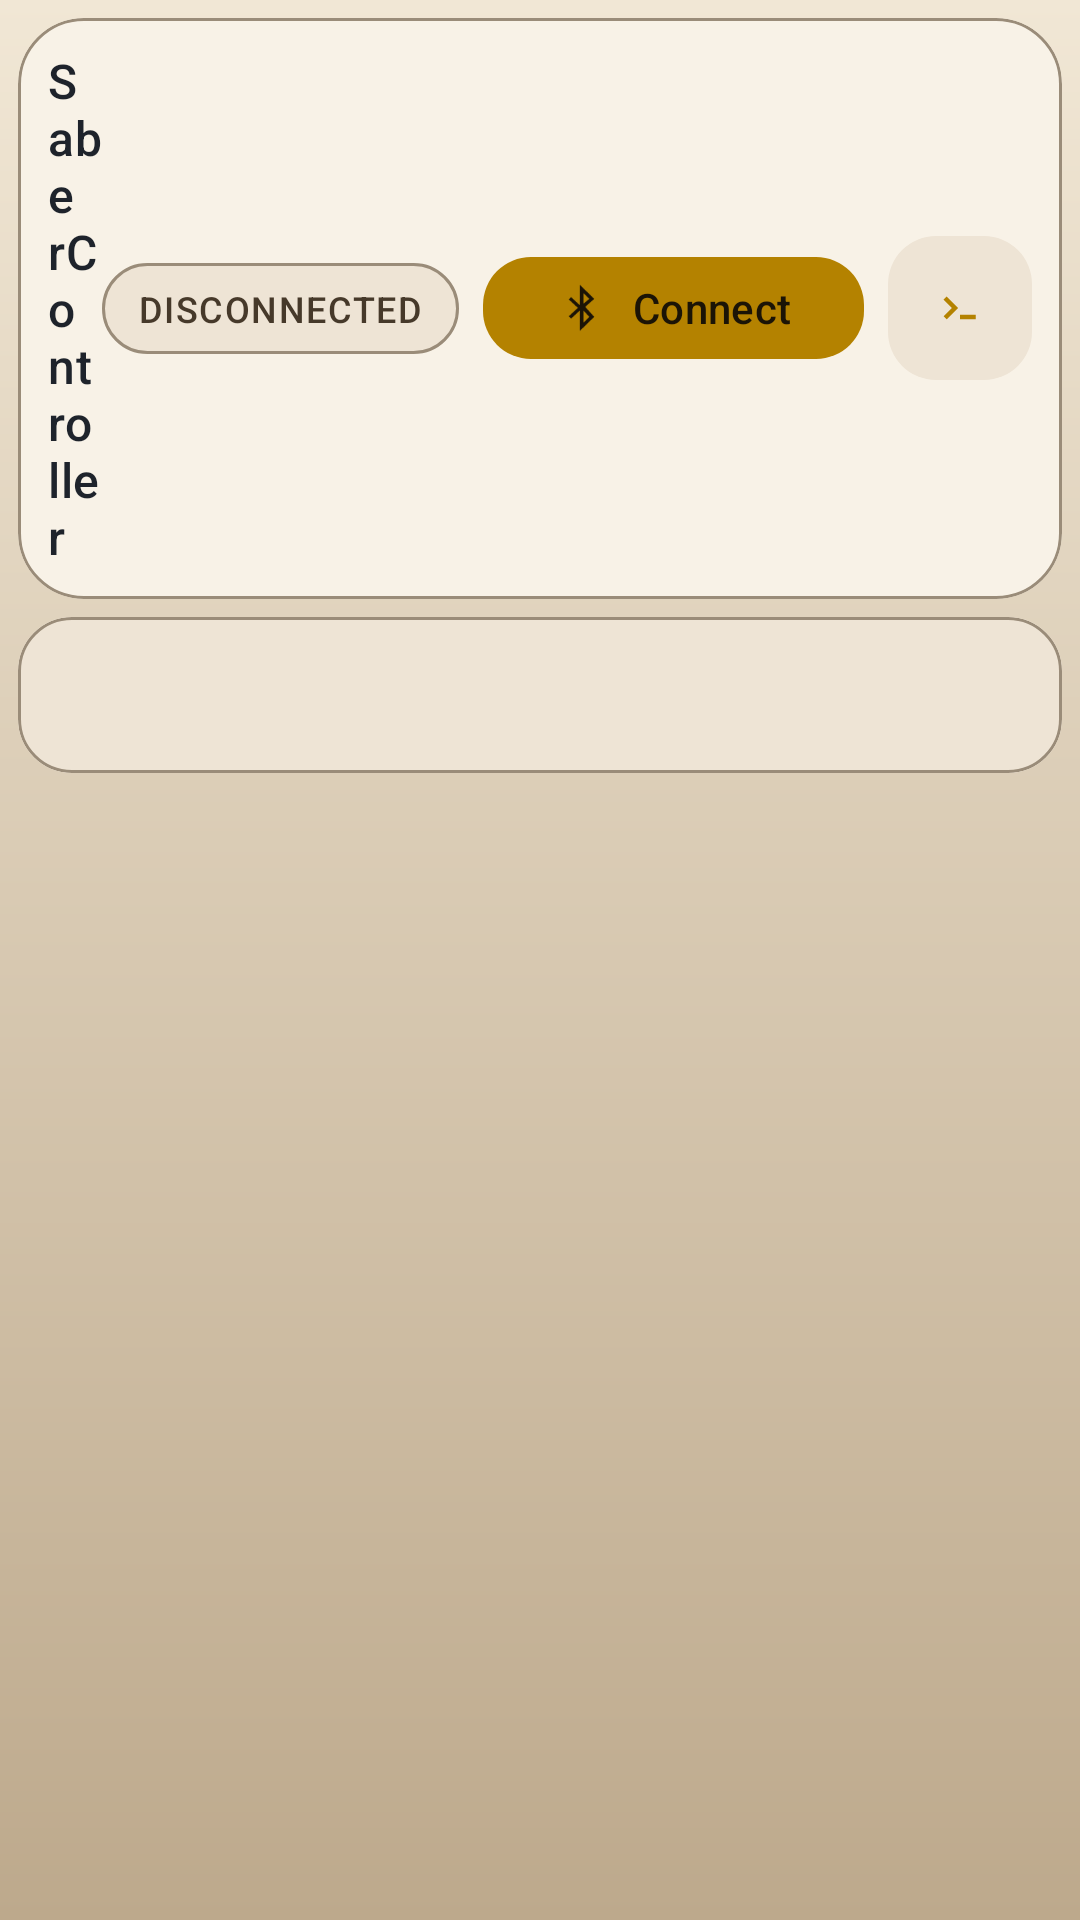

Icons on this 1080 x 1920 Android screen, each with its box as BBox(x1, y1, x2, y2):
Open debug console: BBox(888, 236, 1032, 380)
